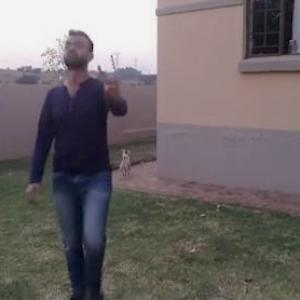takeoff-hand: (103, 74, 130, 102)
